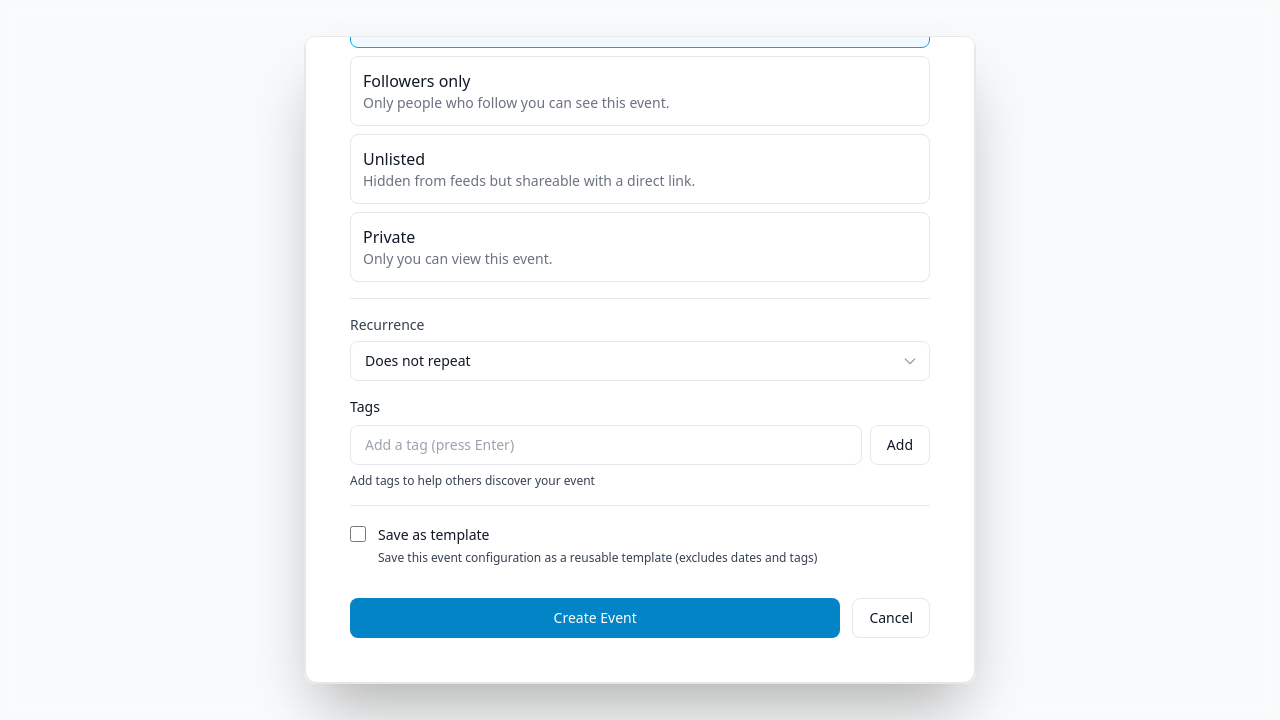
Test: CreateEventModal › should add tags
(page scrolled)
In the field with placeholder "Add a tag (press Enter)": coordinates (606, 445) [350, 425, 862, 465], type "music"
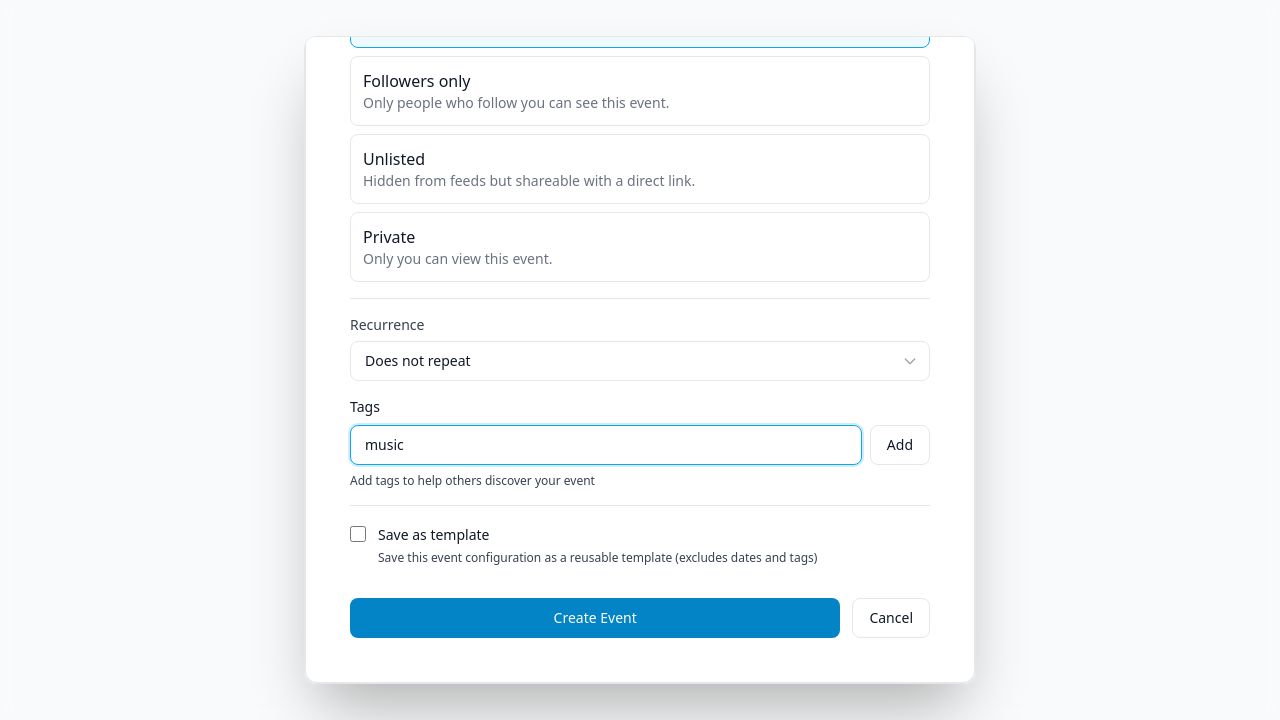
Click the button "Add": coordinates (900, 445) [870, 425, 930, 465]
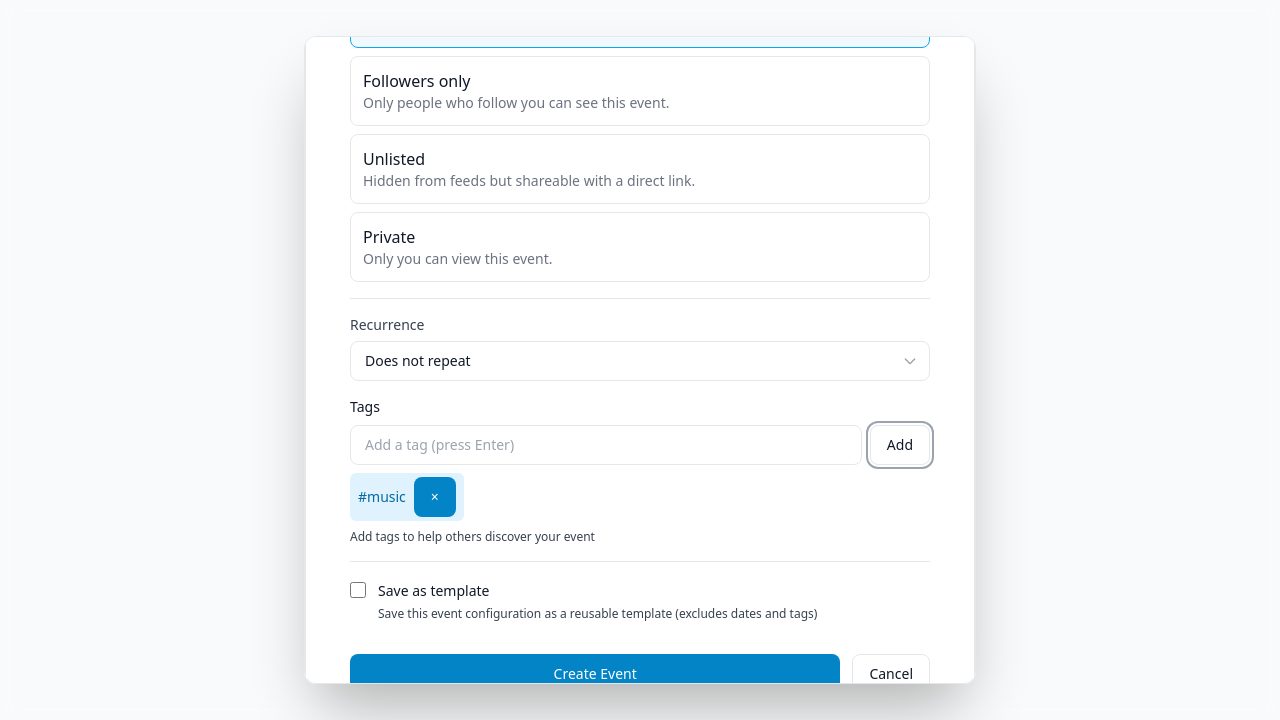
Now the text "#music" is shown, box [350, 473, 464, 521]
